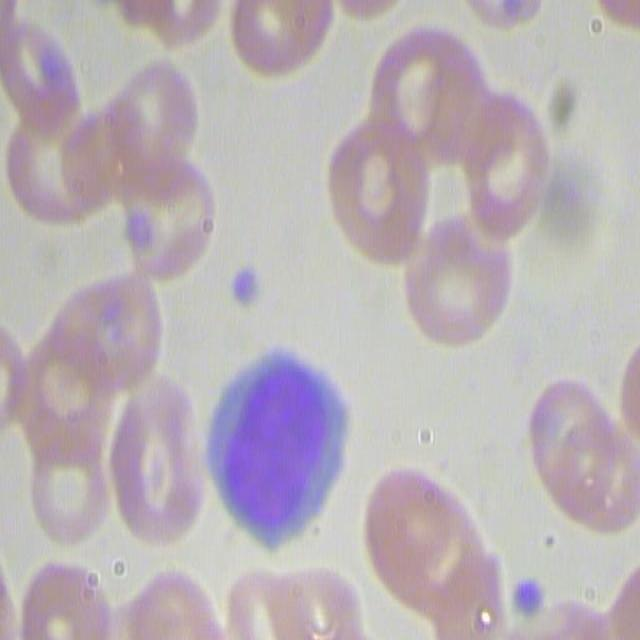RBC: (11, 260, 120, 459), (361, 466, 494, 620), (102, 356, 208, 548), (368, 4, 488, 160), (526, 372, 637, 536), (326, 117, 432, 274), (399, 203, 512, 350), (0, 81, 108, 232), (453, 95, 549, 240), (100, 55, 202, 185), (119, 152, 218, 285), (22, 431, 110, 545), (220, 0, 338, 80), (0, 13, 78, 132), (17, 554, 118, 638), (106, 0, 227, 52)
WBC: (202, 329, 352, 564)
platelets: (228, 262, 263, 314)
